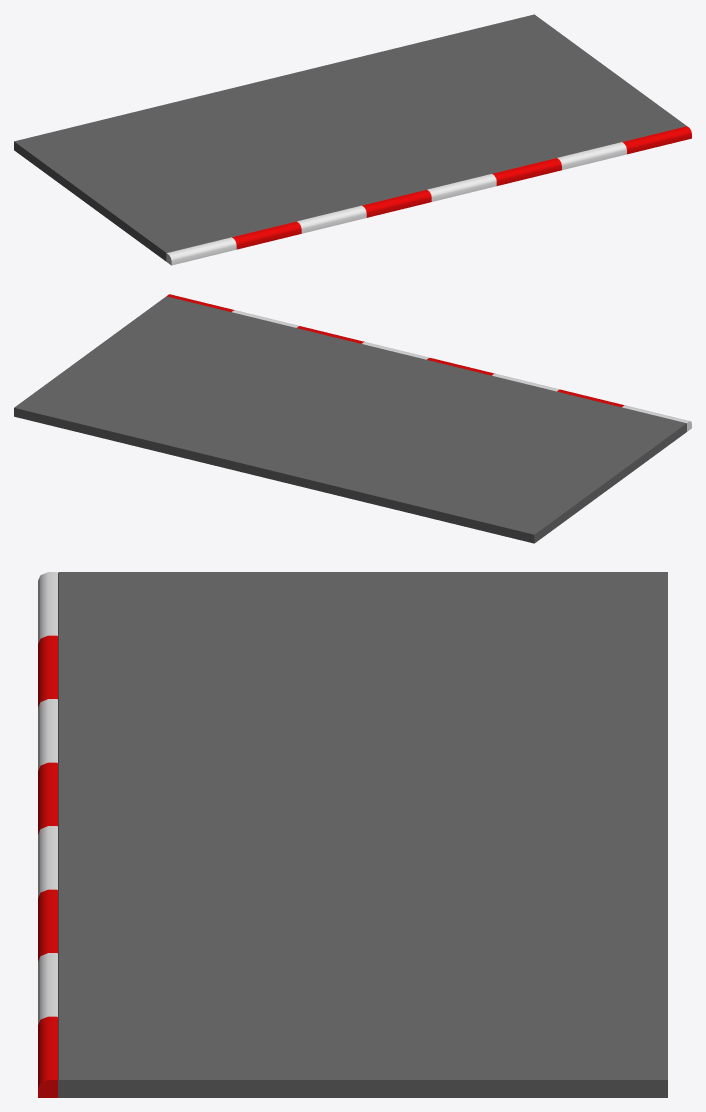
File: Side_Walk.fbx
3 renders of one model, top to bottom at view 1: azimuth 30°, elevation 25°; view 2: azimuth 150°, elevation 25°; view 3: azimuth 270°, elevation 25°, orthographic. The views are drawn at different scales.
Visible parts, largest first — view 1: SideWalk, pavement; view 2: SideWalk, pavement; view 3: SideWalk, pavement.
Part boxes in pixels (box(x1,y1,x2,y2)): SideWalk: box(14, 14, 686, 261); pavement: box(166, 126, 691, 265); SideWalk: box(14, 296, 686, 543); pavement: box(167, 294, 691, 431); SideWalk: box(58, 572, 667, 1097); pavement: box(38, 572, 57, 1097).
Size of the model in its own units: 1553 by 25.29 by 814.
